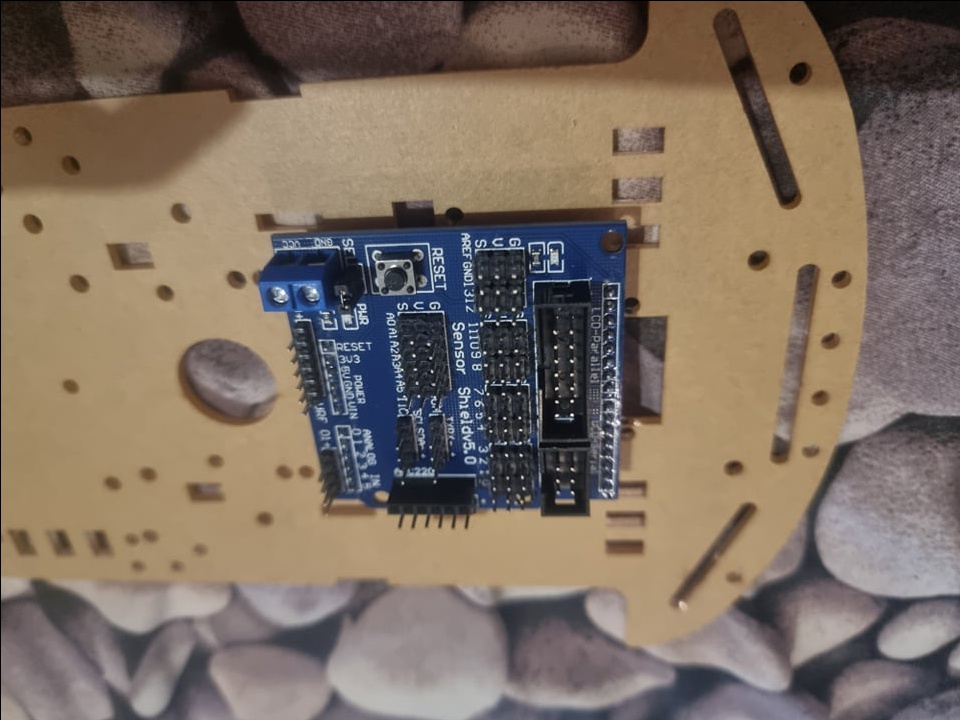5V EXPANSION: (260, 220, 630, 529)
